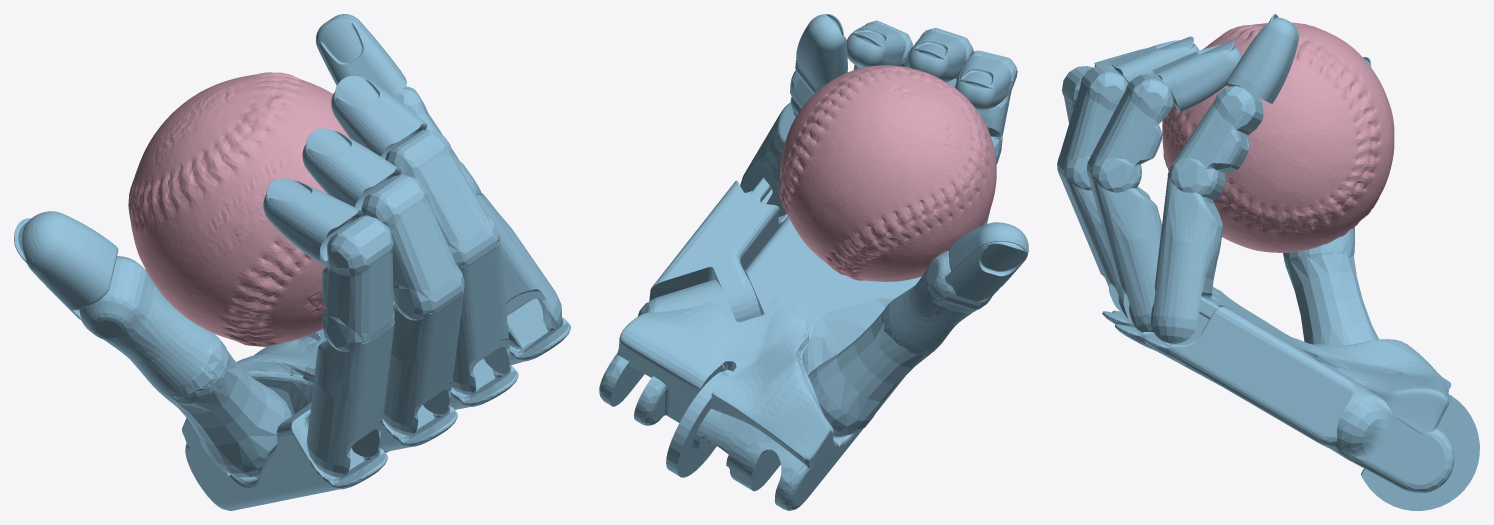
3 renders of one model, left to right at view 1: azimuth 30°, elevation 25°; view 2: azimuth 150°, elevation 25°; view 3: azimuth 270°, elevation 25°, orthographic. The views are drawn at different scales.
Parts seen in each view (by area): view 1: world; view 2: world; view 3: world.
Part boxes in pixels (left/top/right/bottom): world: left=14, top=14, right=570, bottom=510; world: left=599, top=14, right=1028, bottom=510; world: left=1057, top=14, right=1479, bottom=510.
Bounding box in the file's own units: 0.1498 × 0.1617 × 0.1322.
